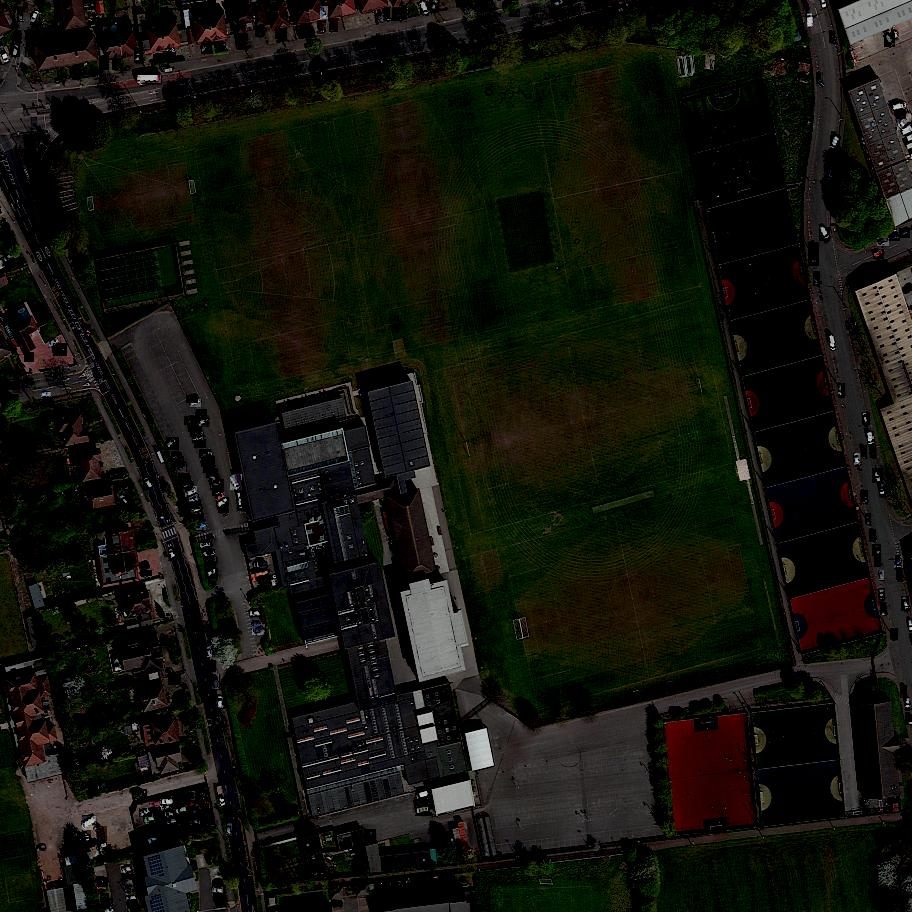large-vehicle: (808, 242, 820, 265), (96, 827, 107, 851), (218, 785, 229, 808), (231, 860, 242, 878), (820, 227, 831, 242), (138, 76, 161, 83), (253, 562, 268, 570)
small-vehicle: (82, 816, 99, 831), (231, 474, 245, 491), (54, 343, 68, 357), (884, 33, 897, 48), (252, 624, 267, 637), (237, 493, 247, 512), (167, 438, 180, 452), (872, 469, 884, 484), (892, 102, 908, 113), (414, 798, 430, 809), (178, 473, 192, 485), (120, 494, 132, 508), (210, 479, 224, 491), (198, 415, 212, 427), (146, 827, 160, 839), (160, 830, 174, 842), (142, 476, 153, 491), (393, 7, 404, 22), (830, 135, 841, 150), (155, 506, 165, 522), (218, 503, 231, 515), (101, 898, 114, 910), (206, 569, 219, 581), (203, 463, 217, 474), (201, 456, 215, 467), (199, 450, 213, 461), (266, 68, 280, 79), (99, 57, 110, 71), (549, 8, 563, 19), (158, 824, 172, 835), (133, 790, 147, 801), (415, 790, 429, 801), (828, 334, 837, 351), (421, 1, 431, 16), (317, 20, 327, 35), (31, 11, 41, 26), (415, 806, 430, 816), (174, 457, 186, 469), (217, 497, 229, 509), (201, 43, 213, 55), (196, 409, 208, 421), (191, 505, 204, 516), (189, 499, 202, 510), (185, 487, 198, 498), (49, 337, 62, 348), (148, 835, 161, 846), (364, 830, 377, 841), (153, 811, 166, 822), (184, 800, 197, 811), (173, 793, 186, 804), (169, 675, 182, 686), (320, 6, 330, 20), (83, 831, 93, 845), (901, 597, 911, 611), (202, 816, 216, 826), (860, 490, 869, 505), (213, 486, 225, 497), (189, 421, 201, 432), (275, 29, 287, 40), (873, 250, 885, 261), (171, 822, 183, 833), (98, 877, 110, 888), (4, 253, 16, 264), (194, 439, 207, 449), (192, 433, 205, 443), (190, 427, 203, 437), (204, 563, 217, 573), (877, 239, 890, 249), (122, 871, 135, 881), (213, 892, 226, 902), (828, 166, 836, 182), (430, 1, 439, 15), (330, 18, 339, 32), (301, 23, 310, 37), (11, 44, 20, 58), (25, 352, 36, 363), (168, 549, 178, 561), (207, 469, 219, 479), (872, 544, 882, 556), (190, 399, 202, 409), (122, 865, 134, 875), (140, 809, 152, 819), (213, 675, 221, 690), (203, 549, 216, 558), (894, 556, 903, 569), (256, 25, 265, 38), (153, 54, 166, 63), (195, 824, 208, 833), (185, 616, 194, 629), (178, 814, 191, 823), (155, 820, 168, 829), (813, 272, 821, 286), (223, 810, 231, 824), (194, 511, 205, 521), (216, 492, 227, 502), (509, 9, 520, 19), (187, 494, 199, 503), (176, 464, 188, 473), (9, 382, 21, 391), (890, 628, 899, 640), (135, 533, 144, 545), (184, 827, 196, 836), (195, 796, 207, 805), (150, 806, 162, 815), (176, 807, 188, 816), (167, 817, 179, 826), (198, 804, 210, 813), (135, 48, 142, 63), (186, 395, 199, 403), (187, 806, 200, 814), (181, 820, 191, 830), (900, 229, 911, 238), (196, 790, 207, 799), (863, 412, 870, 426), (84, 325, 91, 339), (817, 72, 824, 86), (77, 833, 84, 847), (172, 831, 186, 838), (226, 823, 233, 837), (198, 684, 205, 698), (205, 556, 217, 564), (171, 453, 183, 461), (113, 58, 121, 70), (895, 112, 907, 120), (866, 513, 873, 526), (214, 901, 227, 908), (167, 53, 177, 62), (182, 482, 193, 490), (875, 556, 883, 567), (185, 417, 196, 425), (237, 33, 248, 41), (123, 479, 130, 491), (854, 453, 861, 465), (384, 7, 390, 21), (881, 601, 887, 615), (212, 880, 224, 887), (164, 811, 176, 818), (190, 819, 202, 826), (202, 809, 212, 817), (867, 432, 873, 445), (861, 445, 867, 458), (830, 149, 836, 162), (901, 685, 907, 698), (218, 696, 224, 709), (126, 895, 137, 902), (904, 698, 911, 709), (250, 610, 261, 617), (18, 7, 23, 22), (870, 529, 876, 541), (101, 894, 110, 902), (897, 570, 903, 582), (879, 588, 885, 600), (190, 812, 202, 818), (139, 562, 149, 569), (807, 13, 812, 27), (200, 542, 211, 548), (879, 484, 885, 495), (228, 81, 239, 87), (889, 236, 900, 242), (213, 888, 224, 894), (162, 799, 173, 805), (150, 801, 161, 807), (182, 594, 188, 605), (839, 384, 844, 397), (15, 31, 20, 43), (554, 1, 564, 7), (140, 570, 152, 575), (161, 805, 171, 811), (378, 10, 383, 21), (215, 42, 226, 47), (906, 713, 911, 724), (128, 507, 139, 512), (172, 804, 183, 809), (128, 902, 137, 908), (402, 6, 406, 19), (41, 393, 51, 398), (893, 29, 898, 39), (184, 793, 194, 798), (144, 817, 154, 822), (252, 622, 262, 627), (211, 660, 215, 672), (161, 636, 165, 648), (197, 525, 206, 530), (210, 476, 219, 481), (22, 381, 31, 386), (879, 571, 884, 580), (332, 901, 341, 906), (208, 646, 212, 657), (871, 447, 875, 457), (830, 32, 834, 42), (98, 884, 106, 889), (37, 845, 46, 849), (166, 49, 172, 52)
